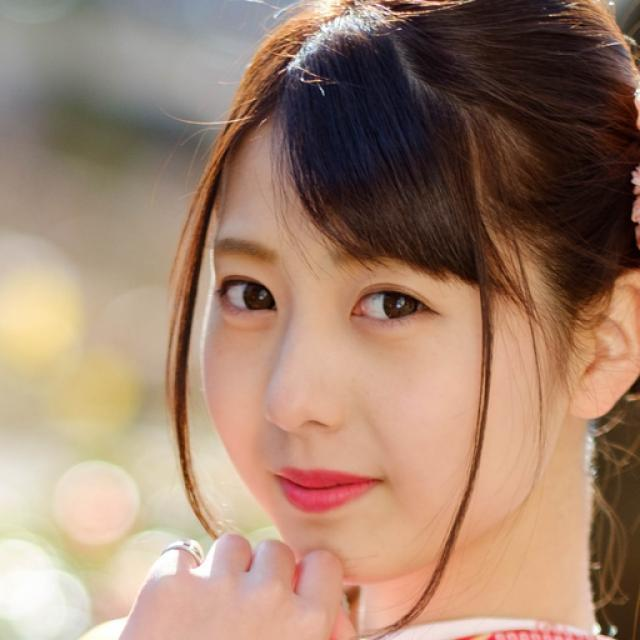neutral: (198, 103, 570, 587)
